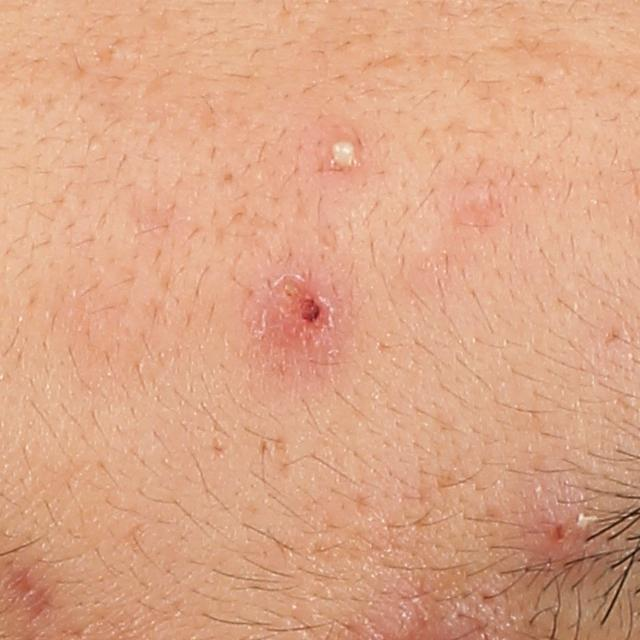papule: (271, 279, 339, 354)
pustule: (327, 132, 363, 173)
